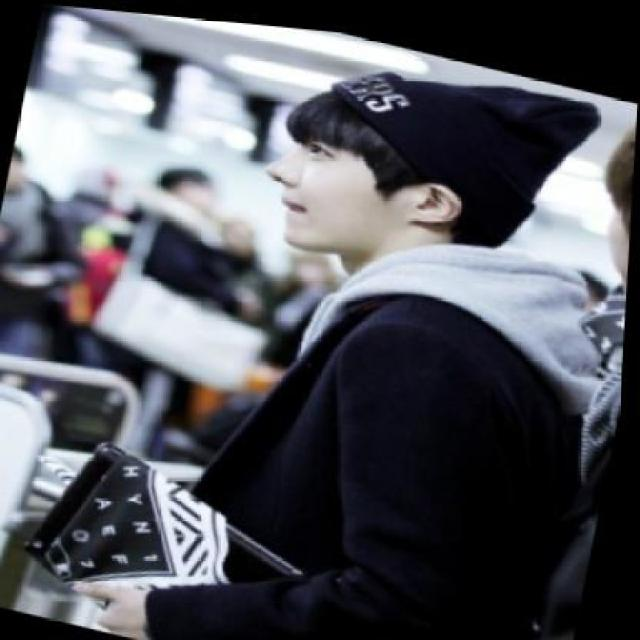hat: (331, 61, 600, 236)
